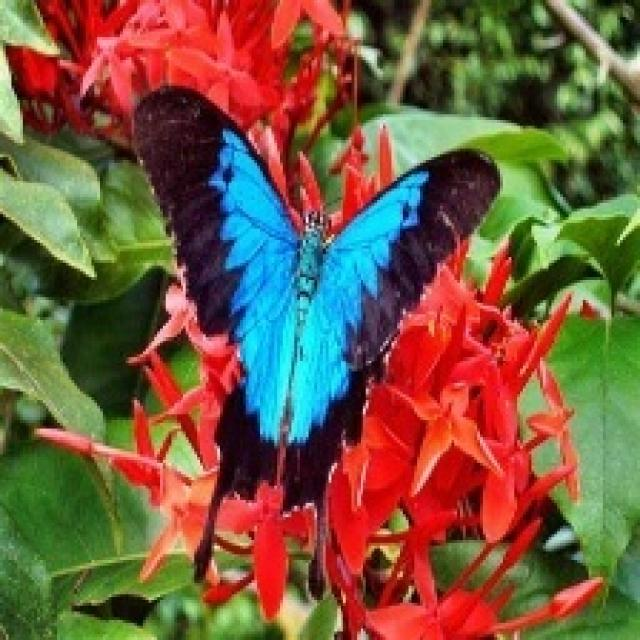butterfly: (126, 80, 500, 600)
